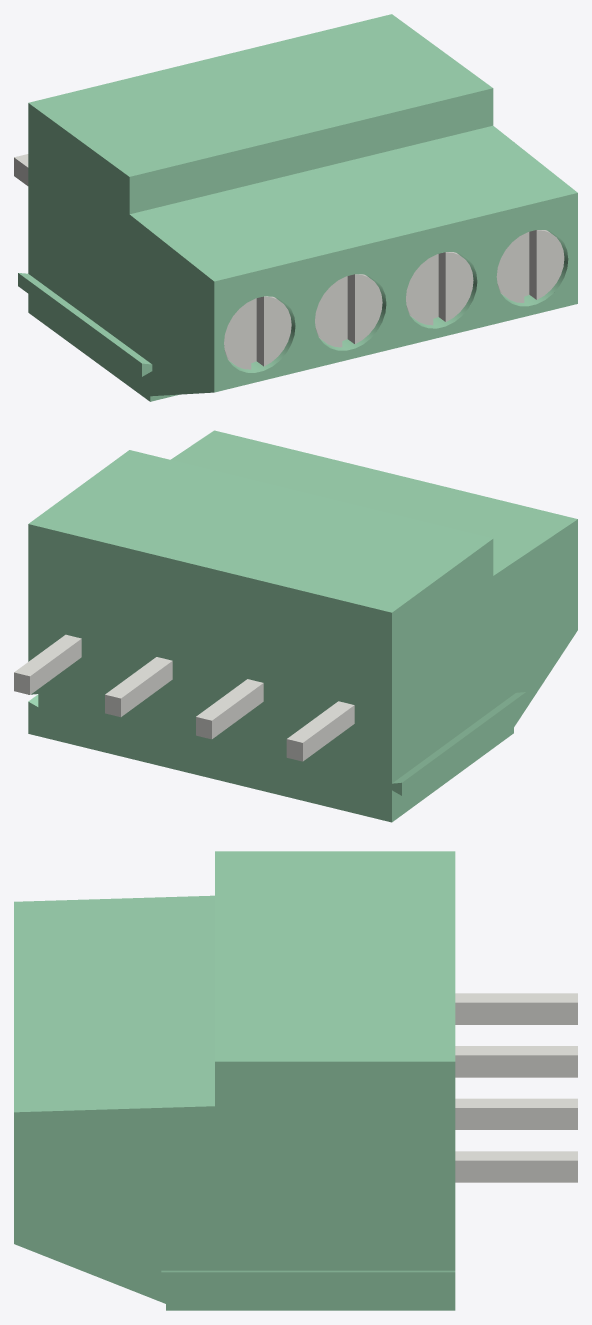
The model's file is TerminalBlock_Phoenix_MKDS-3-4-5.08_1x04_P5.08mm_Horizontal.glb.
3 views of the same model, one above another, from view 1: azimuth 30°, elevation 25°; view 2: azimuth 150°, elevation 25°; view 3: azimuth 270°, elevation 25° (orthographic). The views are drawn at different scales.
Parts seen in each view (by area): view 1: Shape_IndexedFaceSet.005, Shape_IndexedFaceSet.003, Shape_IndexedFaceSet, Shape_IndexedFaceSet.002, Shape_IndexedFaceSet.004, Shape_IndexedFaceSet.017, Shape_IndexedFaceSet.162, Shape_IndexedFaceSet.167, Shape_IndexedFaceSet.171, Shape_IndexedFaceSet.166, Shape_IndexedFaceSet.181, Shape_IndexedFaceSet.172 (+11 smaller); view 2: Shape_IndexedFaceSet.006, Shape_IndexedFaceSet.005, Shape_IndexedFaceSet, Shape_IndexedFaceSet.003, Shape_IndexedFaceSet.017, Shape_IndexedFaceSet.026, Shape_IndexedFaceSet.034, Shape_IndexedFaceSet.022, Shape_IndexedFaceSet.030, Shape_IndexedFaceSet.007, Shape_IndexedFaceSet.027, Shape_IndexedFaceSet.023 (+2 smaller); view 3: Shape_IndexedFaceSet.012, Shape_IndexedFaceSet.005, Shape_IndexedFaceSet.003, Shape_IndexedFaceSet.024, Shape_IndexedFaceSet.032, Shape_IndexedFaceSet.036, Shape_IndexedFaceSet.028, Shape_IndexedFaceSet.019, Shape_IndexedFaceSet.023, Shape_IndexedFaceSet.027, Shape_IndexedFaceSet.031, Shape_IndexedFaceSet.035 (+1 smaller).
Boxes of the visible parts, left/top/right/bottom form: Shape_IndexedFaceSet.005: left=28, top=14, right=492, bottom=176; Shape_IndexedFaceSet.003: left=130, top=125, right=577, bottom=281; Shape_IndexedFaceSet: left=28, top=103, right=214, bottom=401; Shape_IndexedFaceSet.002: left=214, top=193, right=577, bottom=392; Shape_IndexedFaceSet.004: left=129, top=88, right=493, bottom=213; Shape_IndexedFaceSet.017: left=18, top=273, right=141, bottom=376; Shape_IndexedFaceSet.162: left=445, top=252, right=473, bottom=321; Shape_IndexedFaceSet.167: left=536, top=230, right=564, bottom=299; Shape_IndexedFaceSet.171: left=496, top=234, right=524, bottom=302; Shape_IndexedFaceSet.166: left=406, top=256, right=433, bottom=325; Shape_IndexedFaceSet.181: left=315, top=278, right=342, bottom=347; Shape_IndexedFaceSet.172: left=264, top=296, right=291, bottom=366; Shape_IndexedFaceSet.006: left=28, top=524, right=401, bottom=822; Shape_IndexedFaceSet.005: left=29, top=450, right=492, bottom=612; Shape_IndexedFaceSet: left=392, top=519, right=577, bottom=822; Shape_IndexedFaceSet.003: left=170, top=430, right=577, bottom=575; Shape_IndexedFaceSet.017: left=402, top=692, right=525, bottom=795; Shape_IndexedFaceSet.026: left=121, top=661, right=172, bottom=716; Shape_IndexedFaceSet.034: left=303, top=705, right=354, bottom=761; Shape_IndexedFaceSet.022: left=30, top=639, right=81, bottom=694; Shape_IndexedFaceSet.030: left=212, top=683, right=263, bottom=738; Shape_IndexedFaceSet.007: left=392, top=692, right=525, bottom=783; Shape_IndexedFaceSet.027: left=105, top=657, right=172, bottom=698; Shape_IndexedFaceSet.023: left=14, top=634, right=81, bottom=676; Shape_IndexedFaceSet.012: left=14, top=1061, right=455, bottom=1310; Shape_IndexedFaceSet.005: left=215, top=851, right=455, bottom=1061; Shape_IndexedFaceSet.003: left=14, top=895, right=214, bottom=1112; Shape_IndexedFaceSet.024: left=455, top=1160, right=577, bottom=1182; Shape_IndexedFaceSet.032: left=455, top=1055, right=577, bottom=1077; Shape_IndexedFaceSet.036: left=455, top=1002, right=577, bottom=1024; Shape_IndexedFaceSet.028: left=455, top=1108, right=577, bottom=1129; Shape_IndexedFaceSet.019: left=161, top=1264, right=455, bottom=1270; Shape_IndexedFaceSet.023: left=455, top=1151, right=577, bottom=1160; Shape_IndexedFaceSet.027: left=455, top=1098, right=577, bottom=1107; Shape_IndexedFaceSet.031: left=455, top=1046, right=577, bottom=1055; Shape_IndexedFaceSet.035: left=455, top=993, right=577, bottom=1002.
Size of the model in its own units: 8.22 by 4.41 by 9.06.
